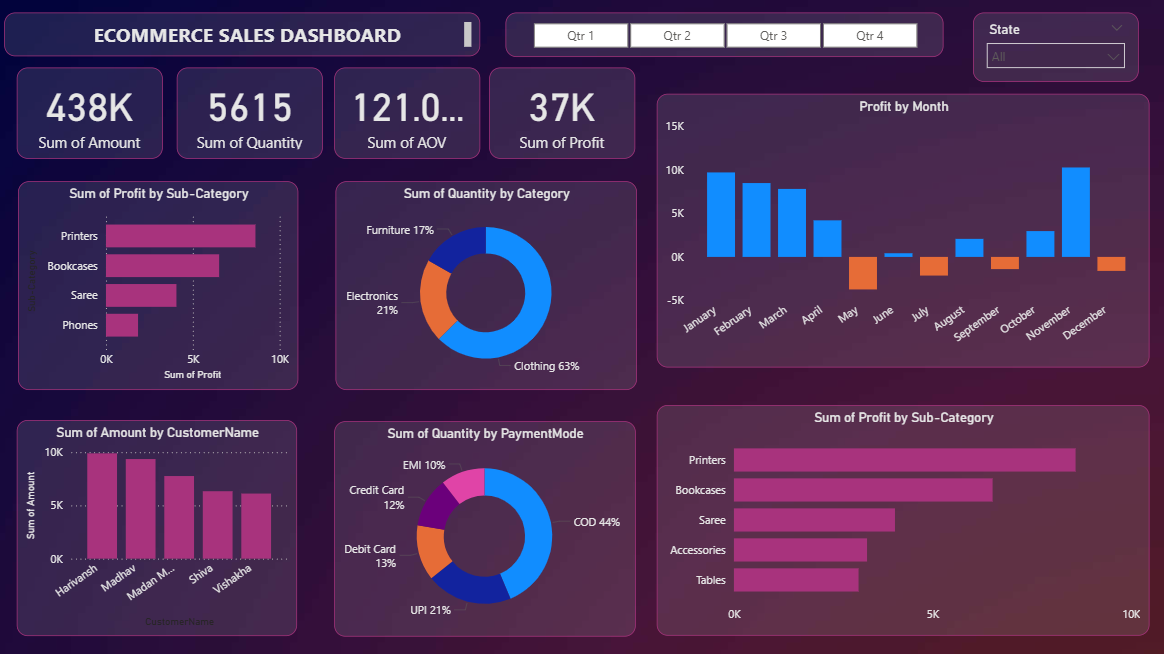

The page's visual inventory and layout, read from the dashboard file:
{"tool":"powerbi","page":{"name":"Page 1","canvas":[1280,720],"ordinal":0},"visuals":[{"type":"columnChart","title":" Profit by Month","fields":{"Y":["Sum(Details.Profit)"],"Category":["Orders.Order Date.Variation.Date Hierarchy.Month"]},"box":[721.4,102.9,540,300],"z":0},{"type":"textbox","box":[6.8,13.7,521.9,47.9],"z":1000},{"type":"barChart","fields":{"Category":["Details.Sub-Category"],"Y":["Sum(Details.Profit)"]},"box":[721.4,444.3,540,252.9],"z":2000},{"type":"donutChart","fields":{"Y":["Sum(Details.Quantity)"],"Category":["Details.Category"]},"box":[370,198.6,330,228.6],"z":3000},{"type":"donutChart","fields":{"Y":["Sum(Details.Quantity)"],"Category":["Details.PaymentMode"]},"box":[368.6,461.4,330,235.7],"z":4000},{"type":"card","fields":{"Values":["Sum(Details.Amount)"]},"box":[20,74.3,160,100],"z":5000},{"type":"card","fields":{"Values":["Sum(Details.Quantity)"]},"box":[195.7,74.3,160,100],"z":6000},{"type":"card","fields":{"Values":["Sum(Details.AOV)"]},"box":[368.6,74.3,160,100],"z":7000},{"type":"card","fields":{"Values":["Sum(Details.Profit)"]},"box":[538.6,74.3,160,100],"z":8000},{"type":"barChart","fields":{"Y":["Sum(Details.Profit)"],"Category":["Details.Sub-Category"]},"box":[21.4,198.6,307.1,228.6],"z":9000},{"type":"columnChart","fields":{"Category":["Orders.CustomerName"],"Y":["Sum(Details.Amount)"]},"box":[20,460,307.1,237.1],"z":10000},{"type":"slicer","fields":{"Values":["Orders.Order Date.Variation.Date Hierarchy.Quarter"]},"box":[555.7,14.3,480,48.6],"z":11000},{"type":"slicer","fields":{"Values":["Orders.State"]},"box":[1068.6,14.3,181.4,75.7],"z":12000}]}

Visuals, with their boxes in screenshot pixels (x1, y1, x2, y2), scaled from the page's 1280x720 canvas onto the 1164x654 screenshot:
" Profit by Month" columnChart: <bbox>656, 93, 1147, 366</bbox>
textbox: <bbox>6, 12, 481, 56</bbox>
barChart - Details.Sub-Category x Sum(Details.Profit): <bbox>656, 404, 1147, 633</bbox>
donutChart - Sum(Details.Quantity) x Details.Category: <bbox>336, 180, 637, 388</bbox>
donutChart - Sum(Details.Quantity) x Details.PaymentMode: <bbox>335, 419, 635, 633</bbox>
card - Sum(Details.Amount): <bbox>18, 67, 164, 158</bbox>
card - Sum(Details.Quantity): <bbox>178, 67, 323, 158</bbox>
card - Sum(Details.AOV): <bbox>335, 67, 481, 158</bbox>
card - Sum(Details.Profit): <bbox>490, 67, 635, 158</bbox>
barChart - Sum(Details.Profit) x Details.Sub-Category: <bbox>19, 180, 299, 388</bbox>
columnChart - Orders.CustomerName x Sum(Details.Amount): <bbox>18, 418, 297, 633</bbox>
slicer - Orders.Order Date.Variation.Date Hierarchy.Quarter: <bbox>505, 13, 942, 57</bbox>
slicer - Orders.State: <bbox>972, 13, 1137, 82</bbox>
